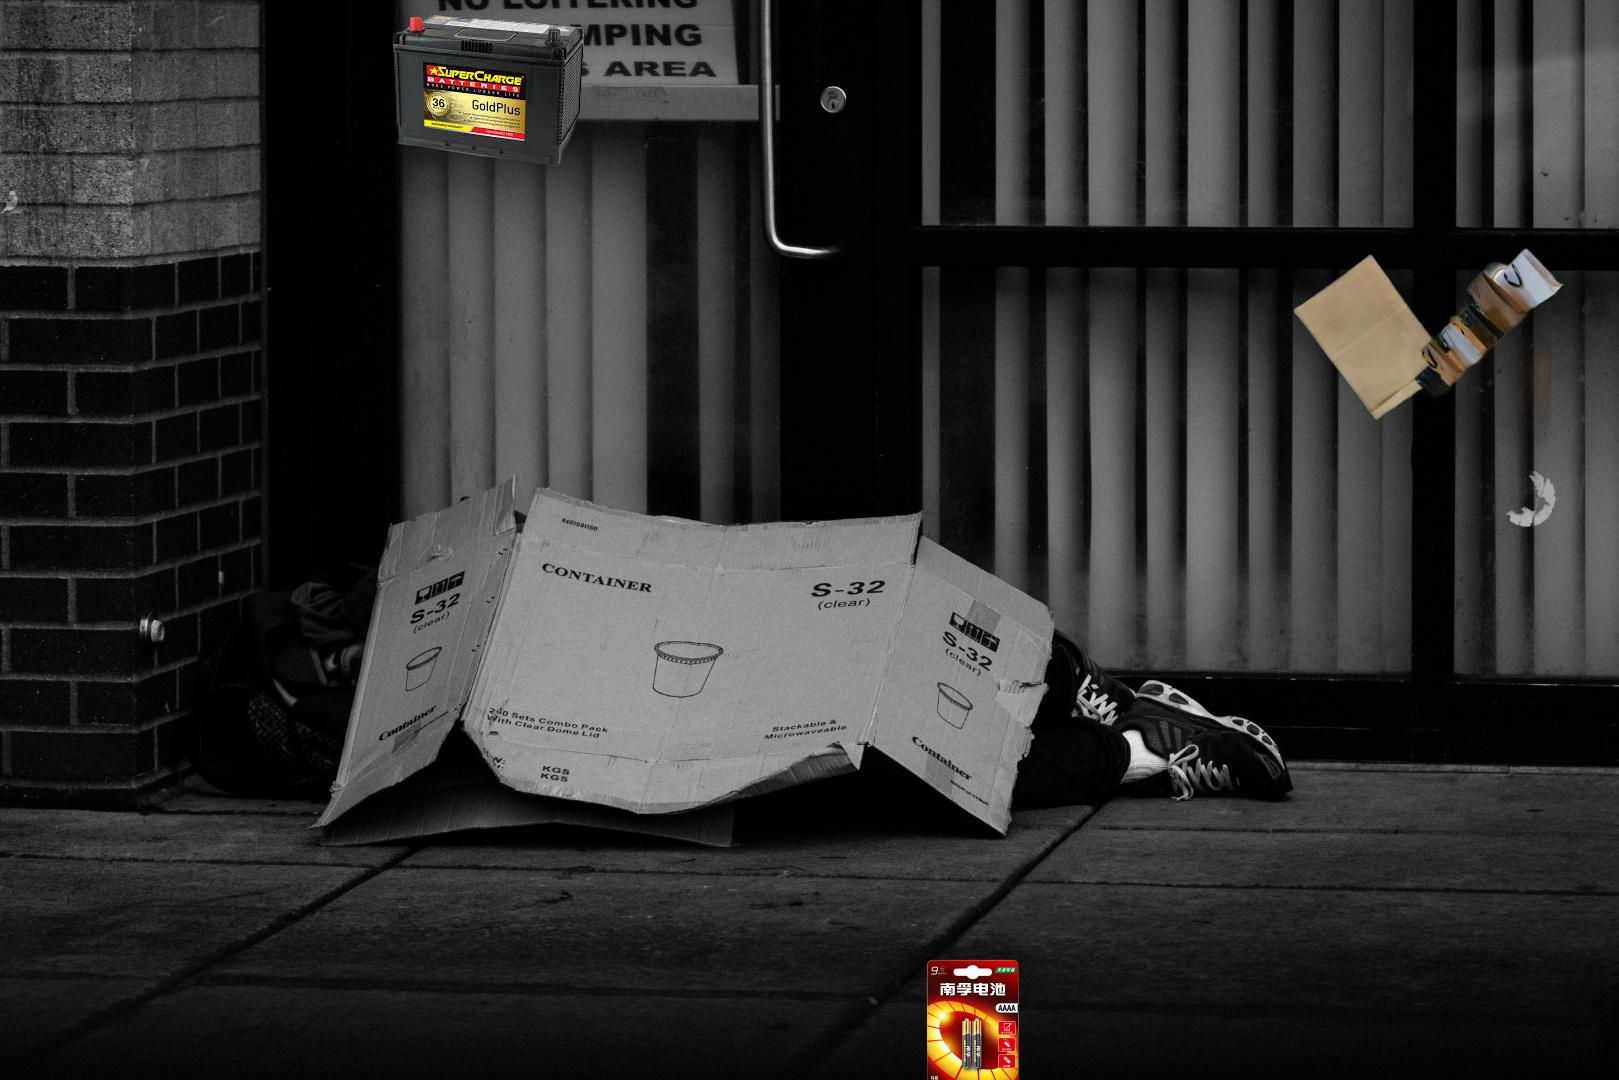battery: (391, 10, 587, 170), (923, 957, 1022, 1080)
paper-bag: (1290, 243, 1568, 479)
